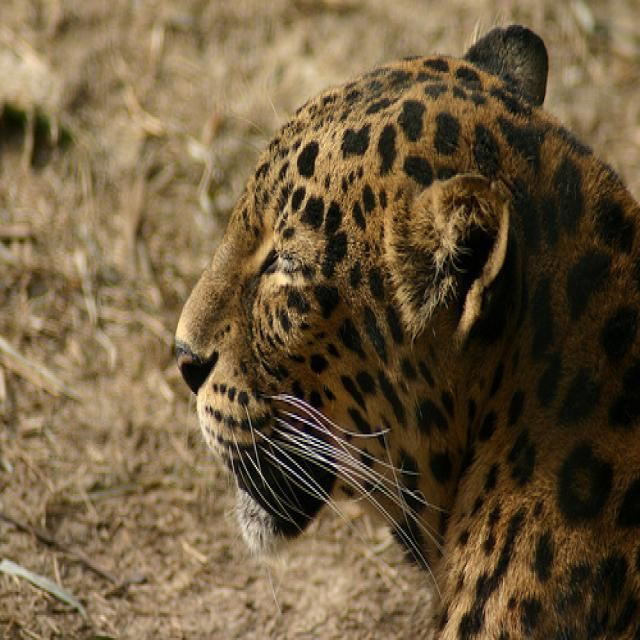Leopard: (172, 23, 638, 636)
